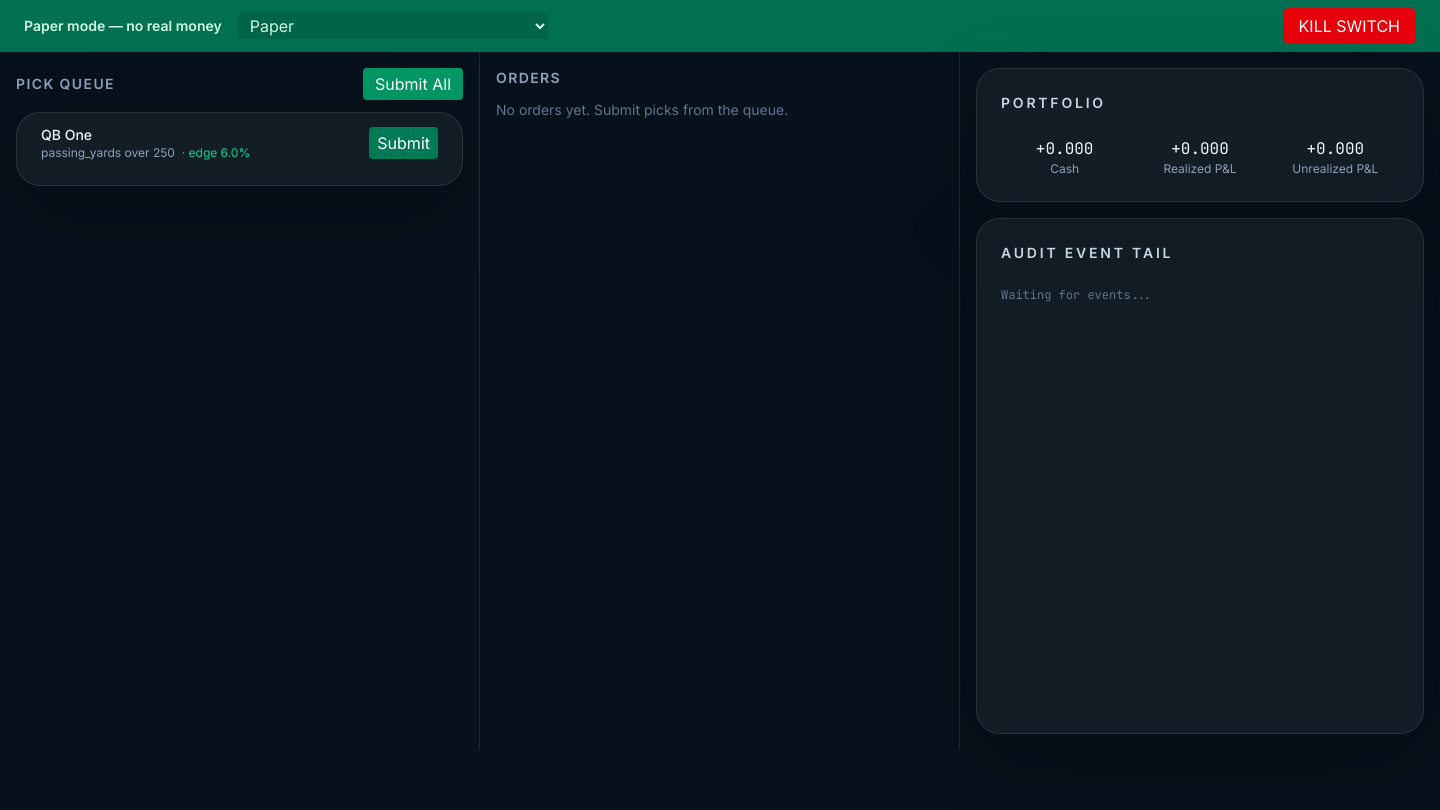
Test case: ExecutionPage › shows KILLED on kill switch button after kill
This screenshot has width=1440, height=810.
Click the button "KILL SWITCH" at (1349, 26), box [1283, 8, 1416, 44]
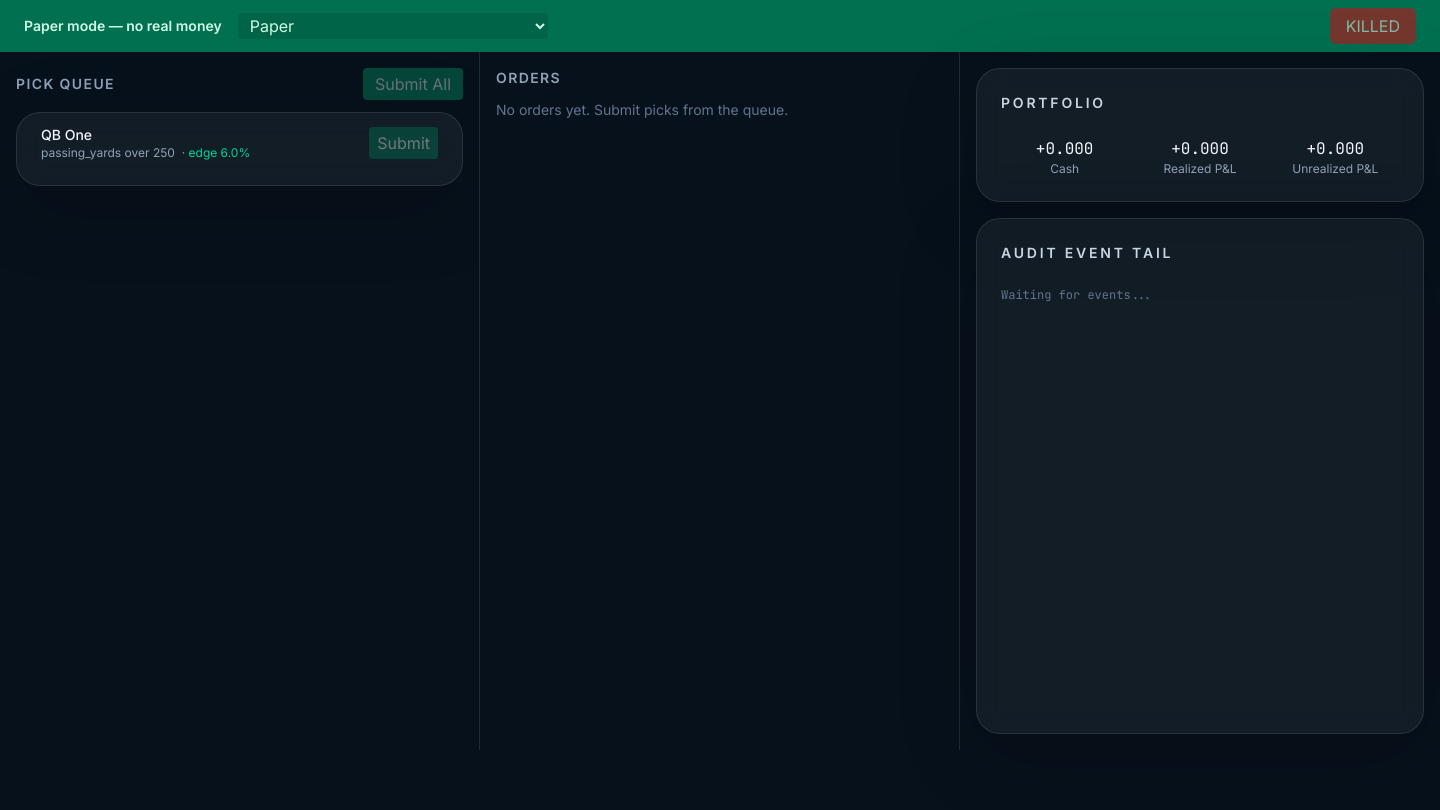
Check: the button "KILLED" is disabled, box [1330, 8, 1416, 44]
